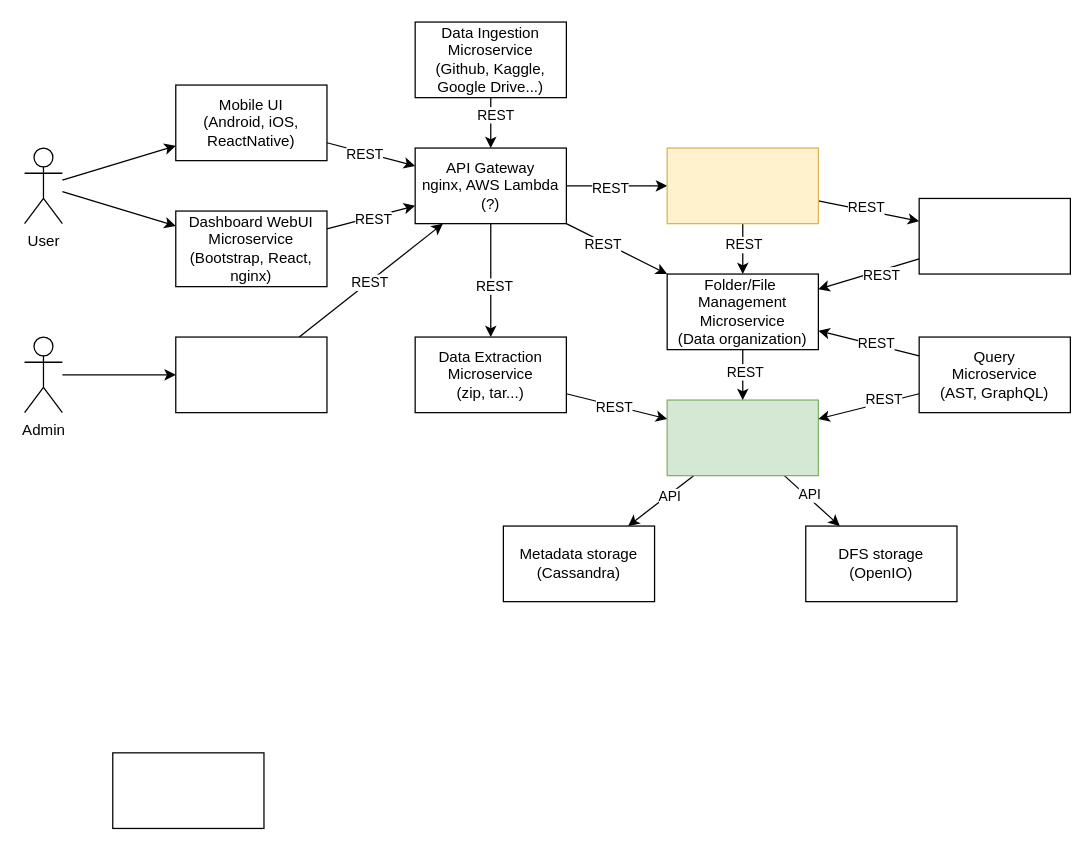
This 1092x851 diagram has some shape labels left out. Each missing label, with the box of its shape:
Access Control Microservice (Access permission): (918, 197, 1070, 274)
Admin Dashboard WebUI Microservice (Bootstrap, nginx): (175, 336, 327, 413)
Istio (?) REST or kafka?: (112, 752, 264, 828)
Lake Core Microservice (DFS, RDBMS encapsulation): (666, 399, 818, 476)
User Management Microservice (Authentication): (666, 147, 818, 224)
